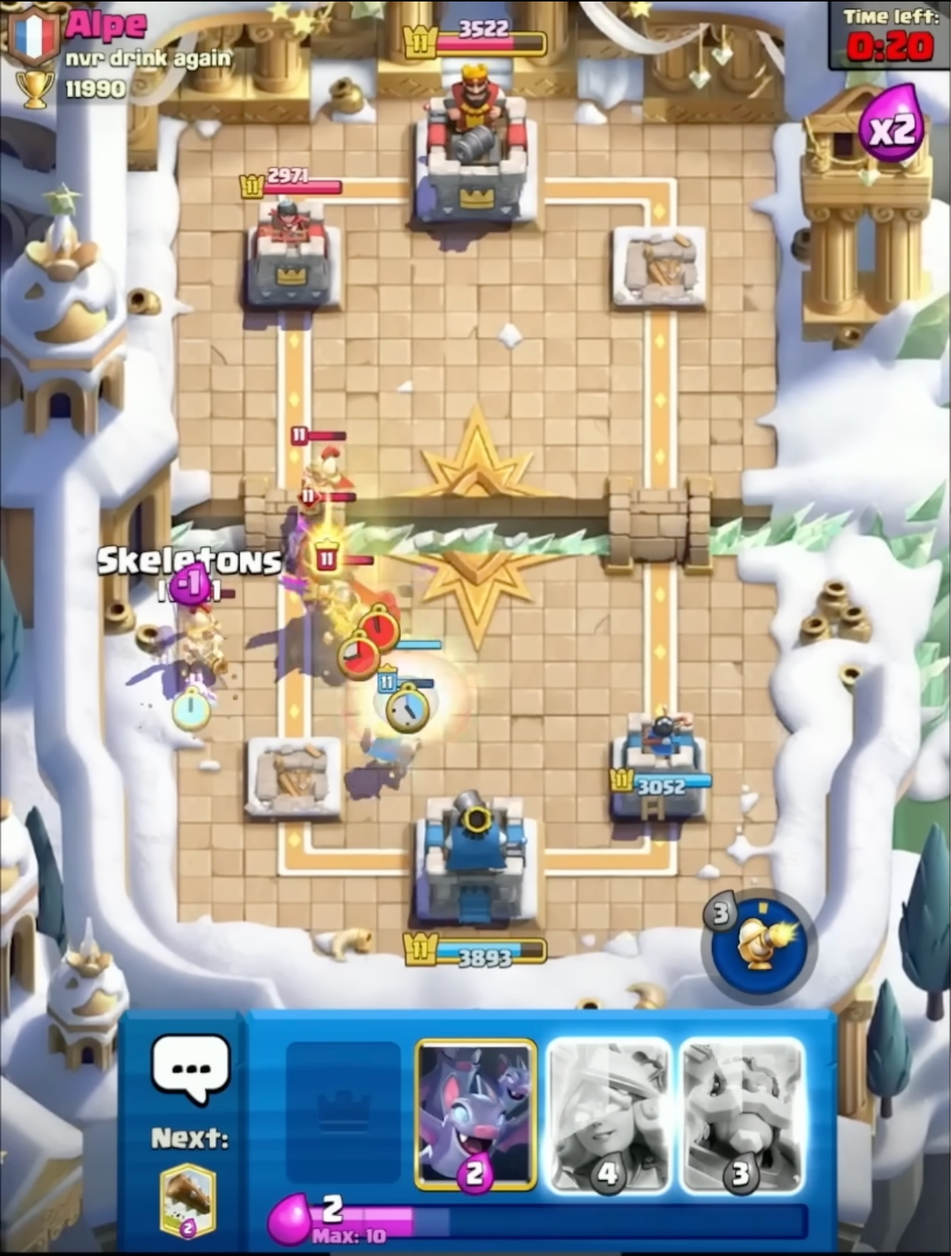hero-knight: (289, 535, 401, 682)
hero-musketeer: (280, 408, 358, 538), (177, 557, 240, 700)
